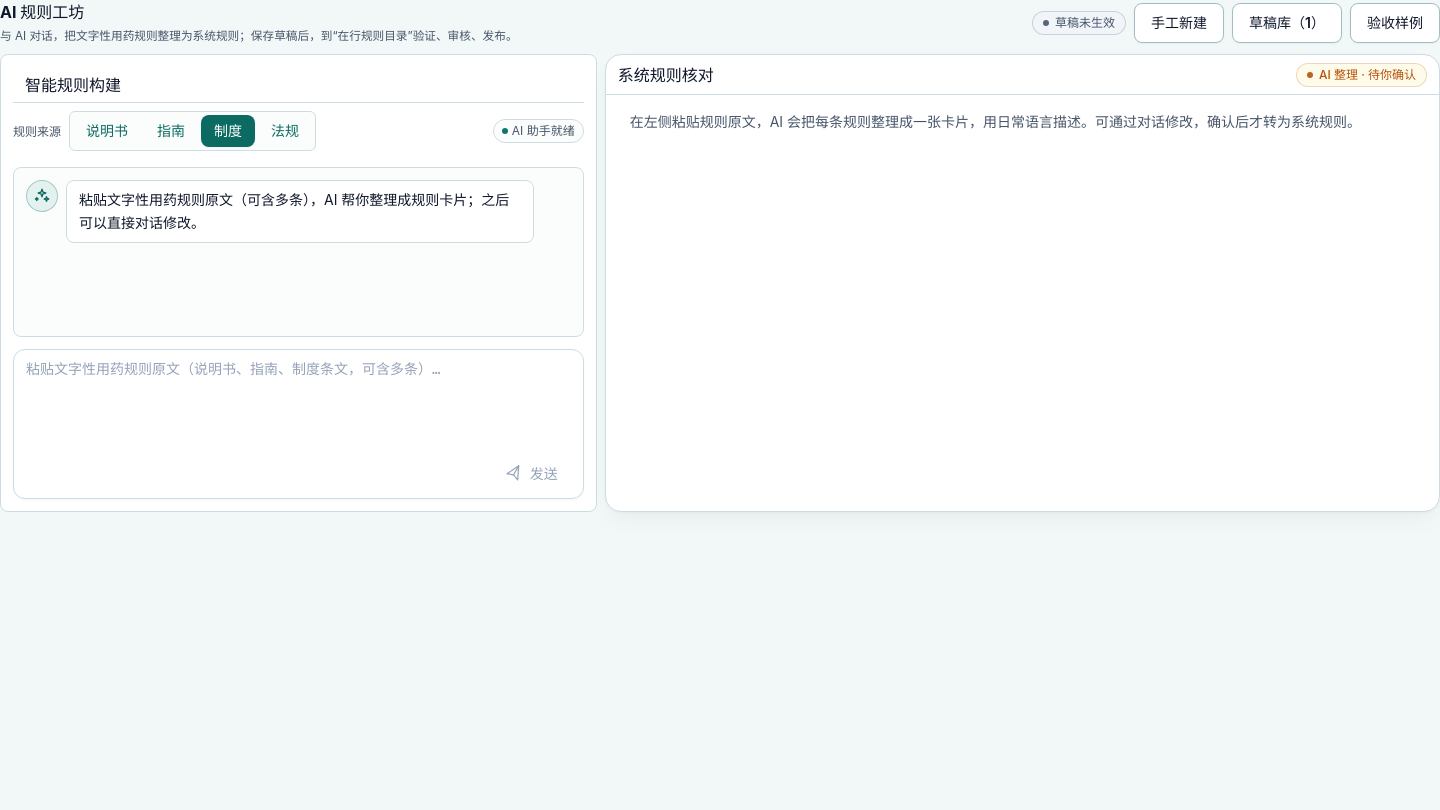
Test: a version conflict preserves unsaved input and does not present a success
Click the button "手工新建" at (1179, 23), box [1134,3,1224,43]
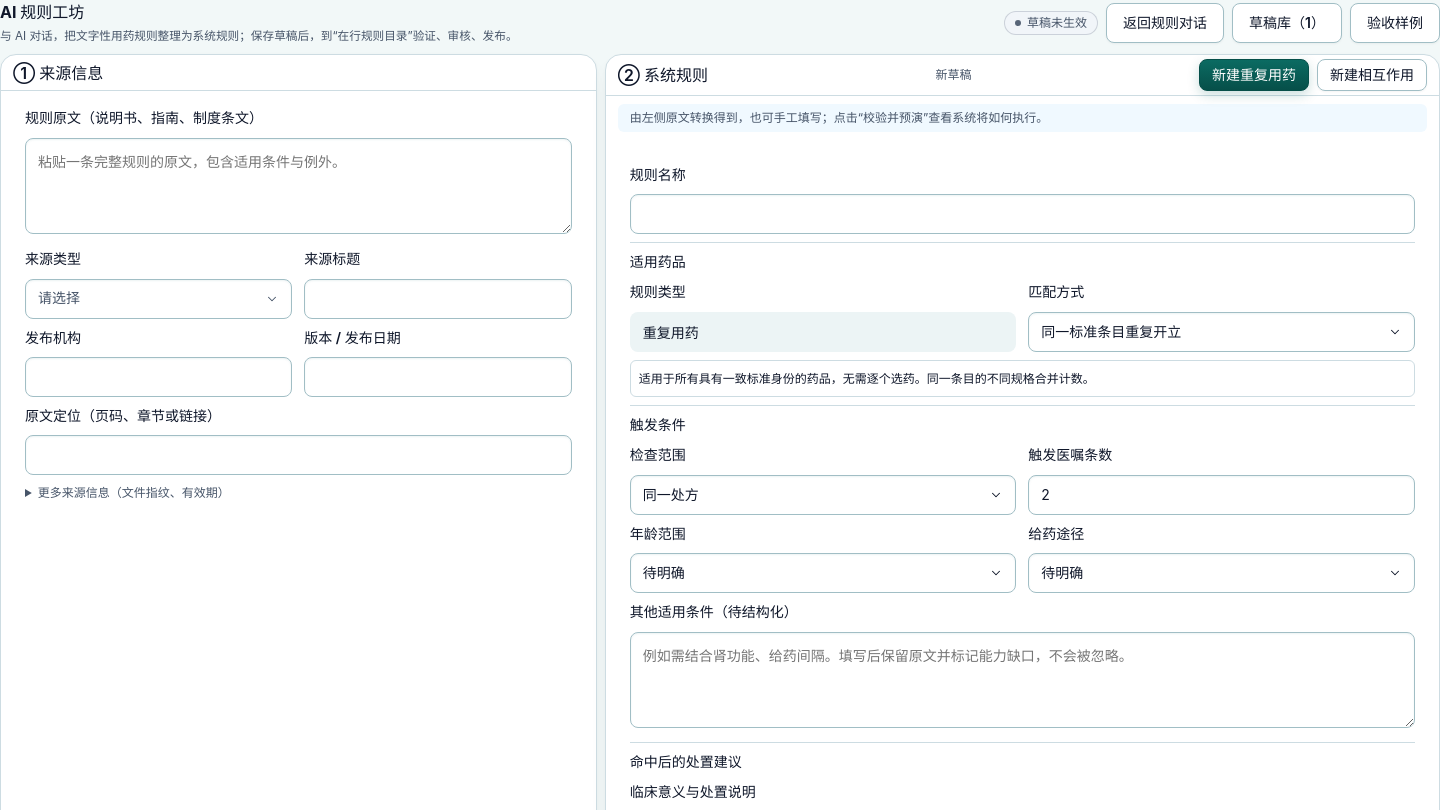
Type "保留标题" into the field named "知识标题" at (1022, 214), box [630,194,1415,234]
(page scrolled)
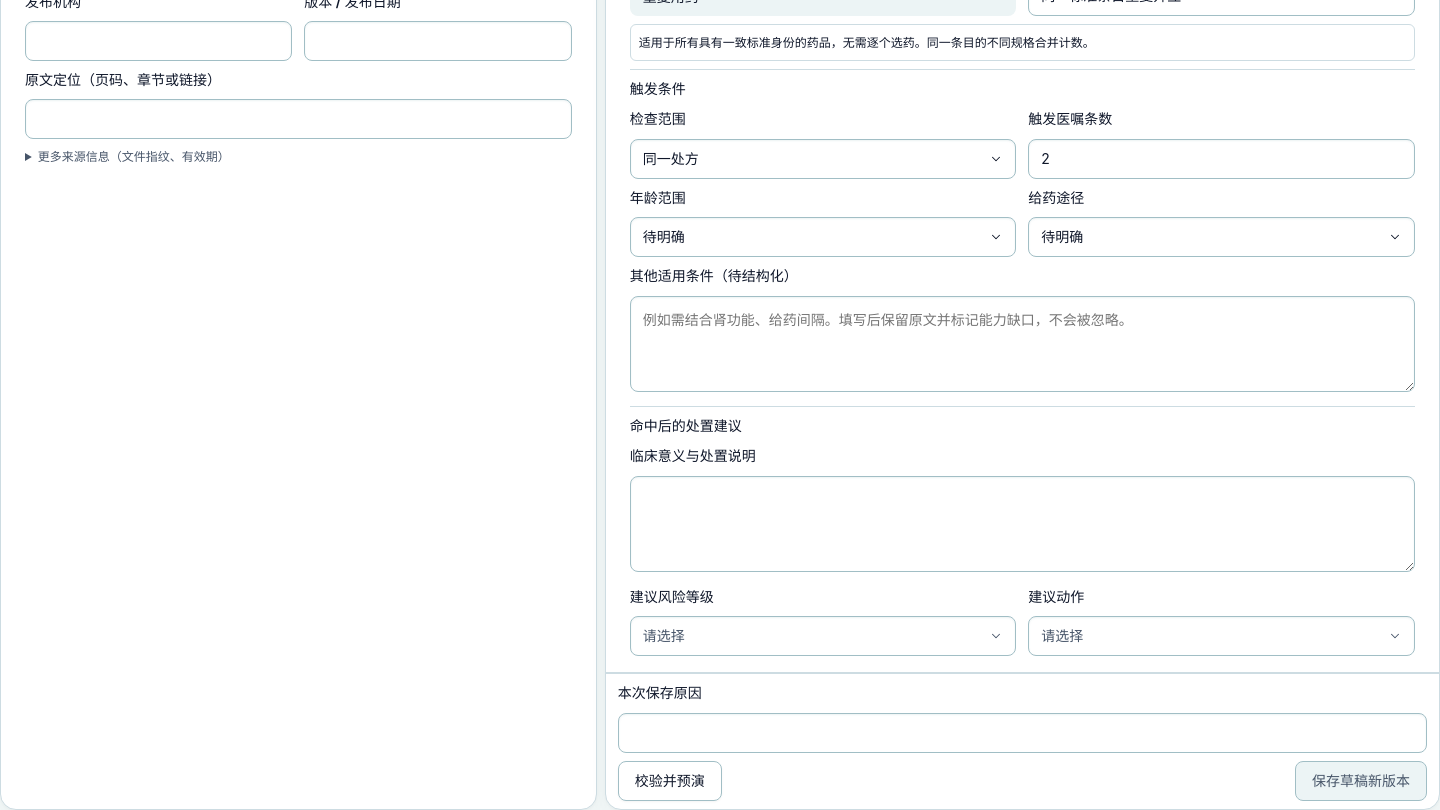
Type "修改" into the field labelled "本次保存原因" at (1022, 733), box [618,713,1427,753]
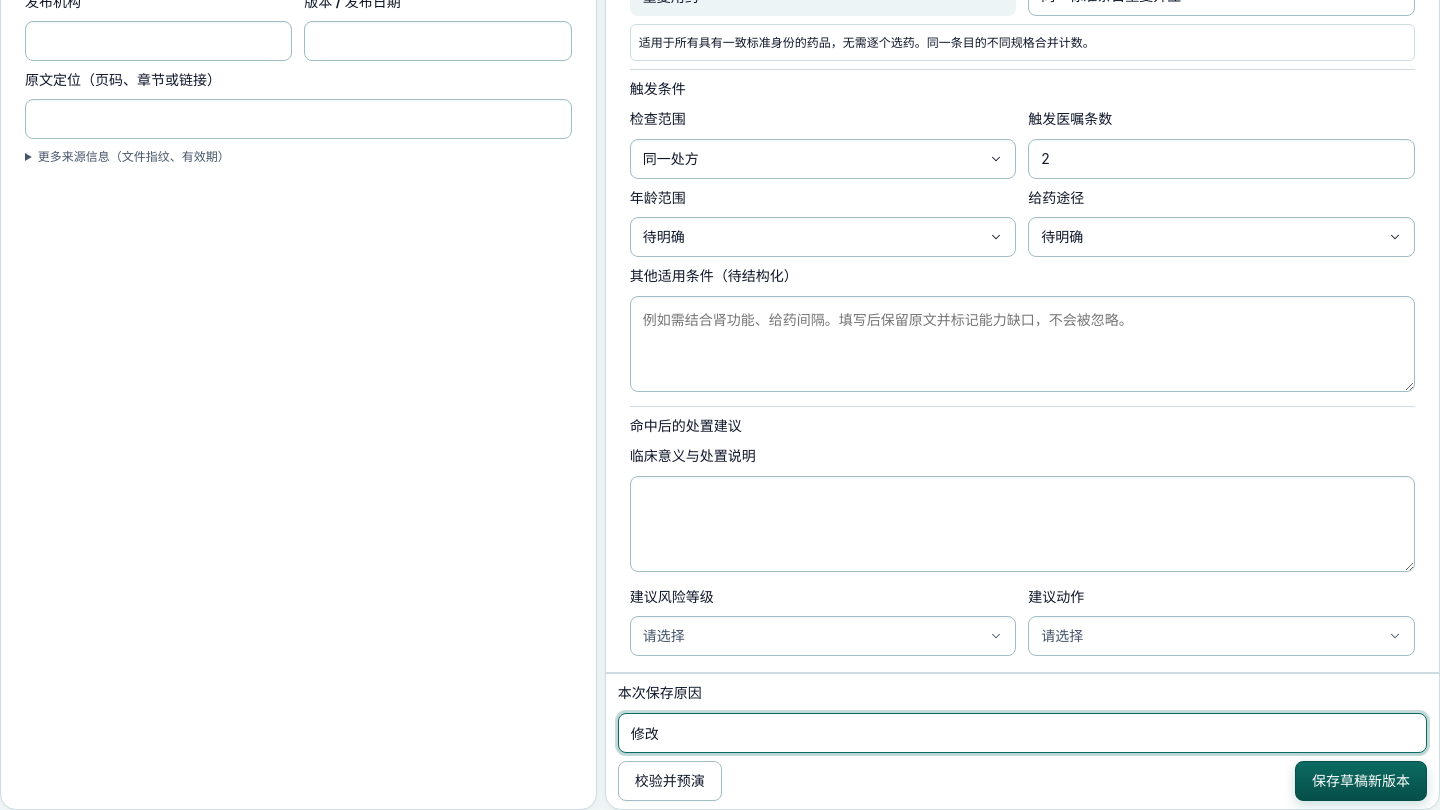
Click the button "保存草稿新版本" at (1361, 781), box [1295,761,1427,801]
(page scrolled)
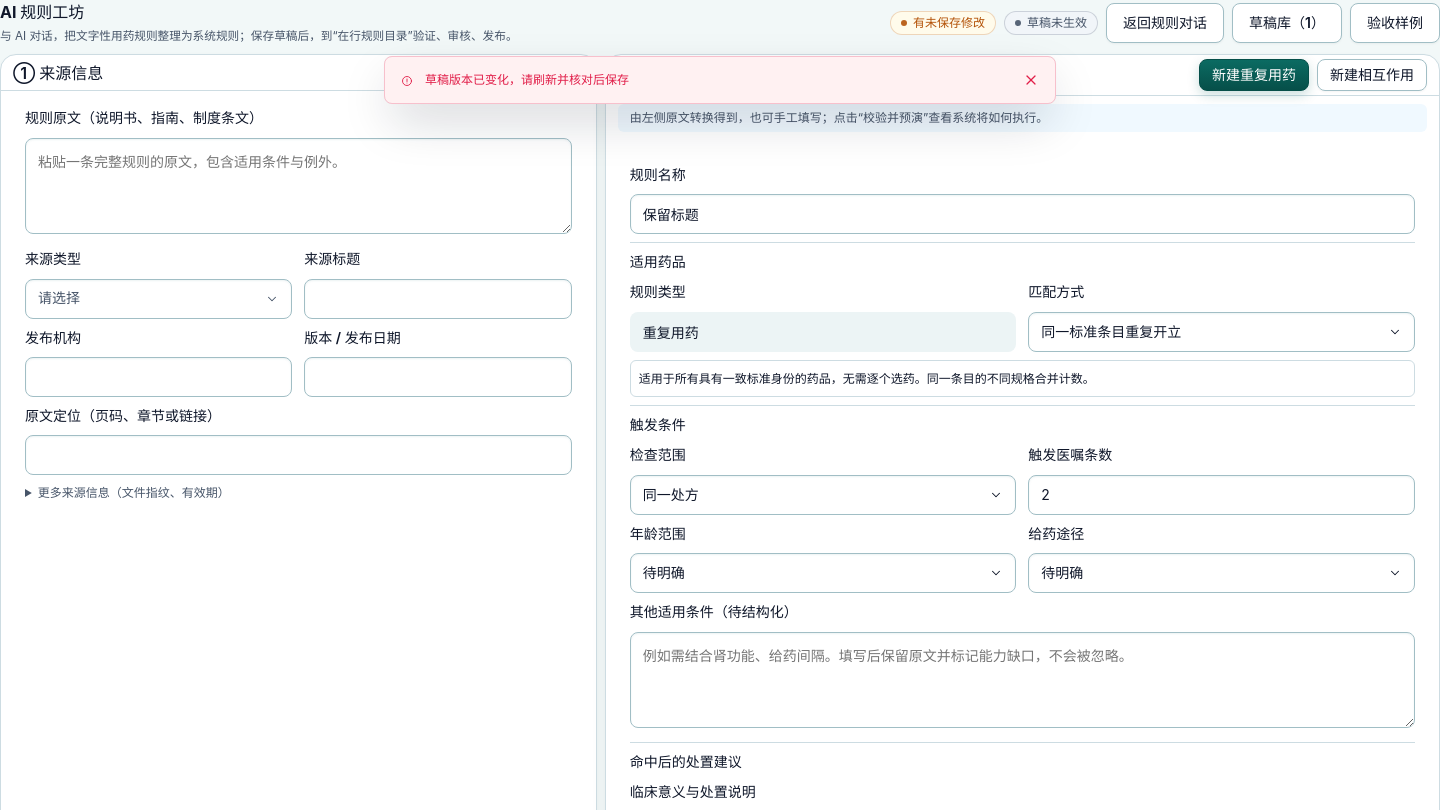
Result: the text "草稿版本已变化，请刷新并核对后保存" is shown at [425,72,629,87]
